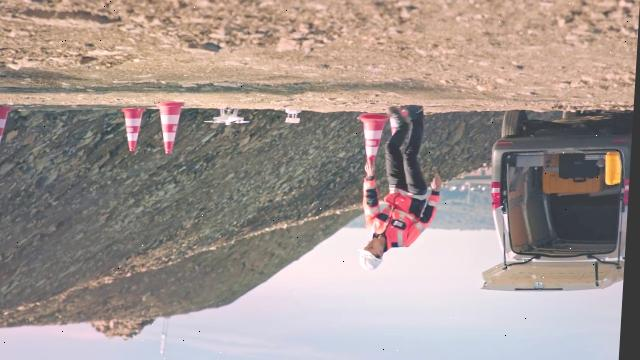drone: (204, 106, 253, 126)
